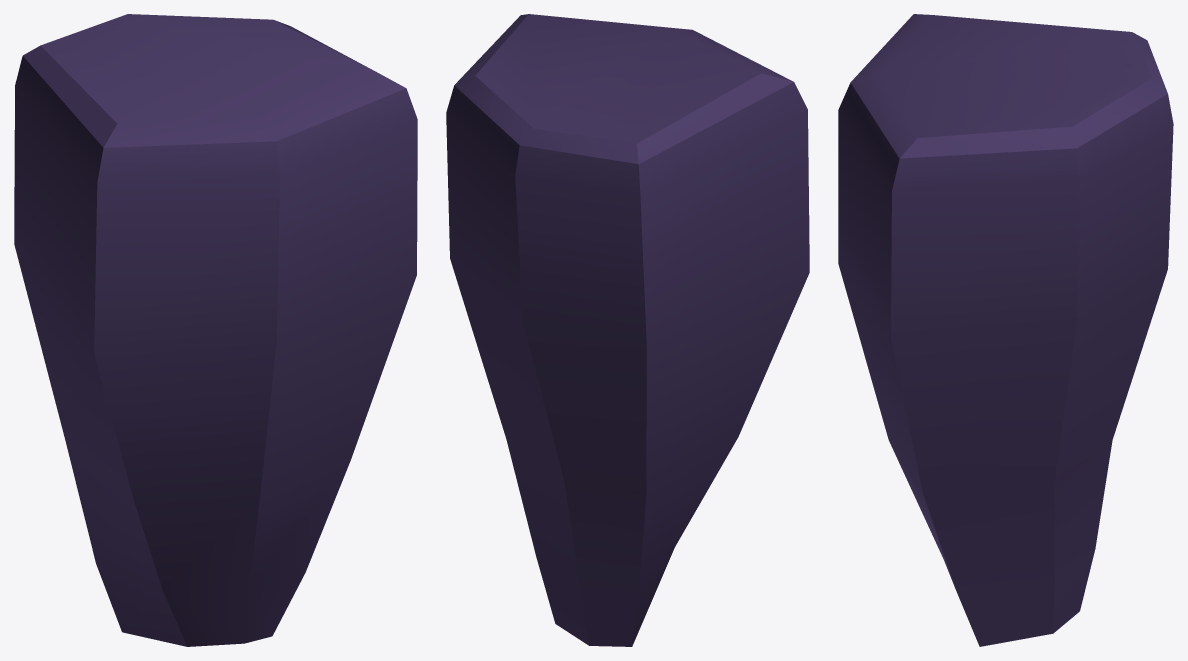
File: island_floor_016.glb
The picture shows the model from 3 angles, left to right: view 1: azimuth 30°, elevation 25°; view 2: azimuth 150°, elevation 25°; view 3: azimuth 270°, elevation 25°; orthographic projection. The views are drawn at different scales.
Visible parts, largest first — view 1: island_floor.016; view 2: island_floor.016; view 3: island_floor.016.
Part boxes in pixels (x1,y1,x2,y2): island_floor.016: (14, 14, 417, 646); island_floor.016: (446, 14, 809, 646); island_floor.016: (838, 14, 1173, 646).
Bounding box in the file's own units: 0.2343 × 0.4079 × 0.2254.
